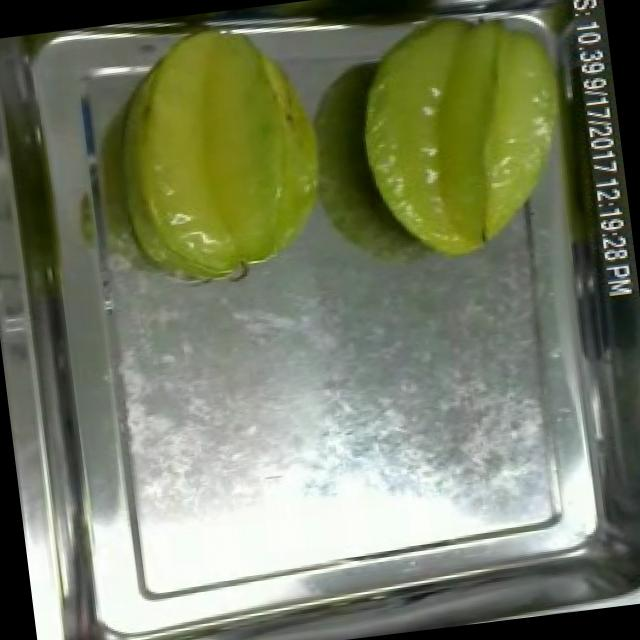fruit: (89, 0, 354, 301), (335, 0, 593, 278)
